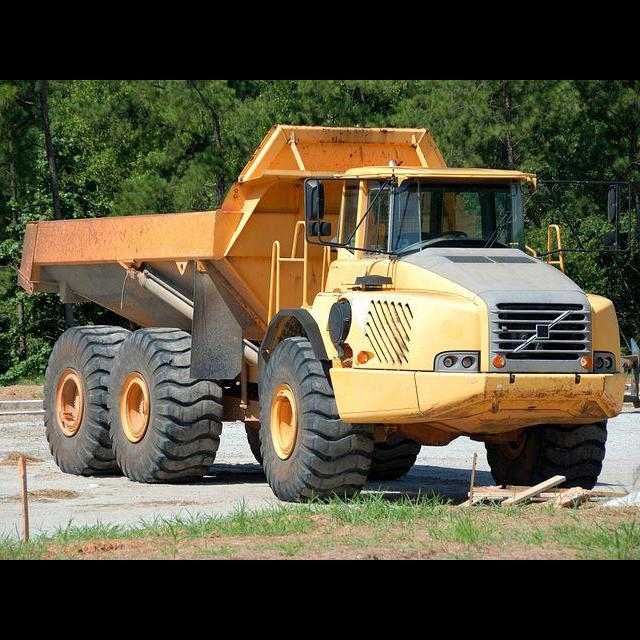dump truck: (18, 121, 628, 509)
